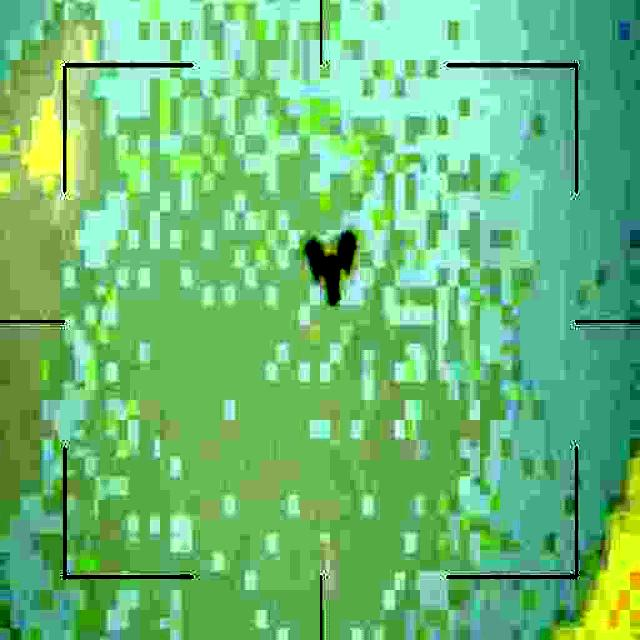bird: (302, 228, 360, 308)
